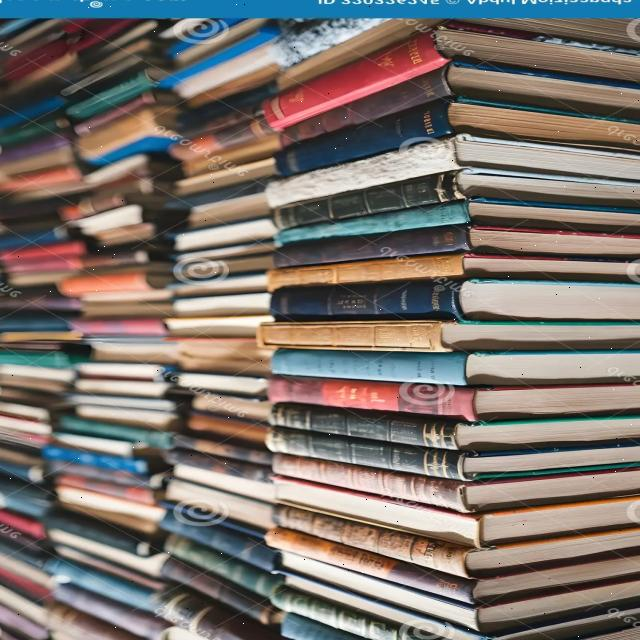book: (251, 25, 453, 131), (264, 529, 479, 604), (270, 98, 458, 176), (270, 67, 448, 147), (260, 141, 462, 205), (272, 455, 468, 511), (275, 172, 466, 227), (270, 426, 464, 479), (272, 587, 461, 640), (264, 407, 460, 448), (268, 229, 464, 268), (270, 280, 468, 318), (272, 349, 467, 382), (268, 282, 456, 316)
